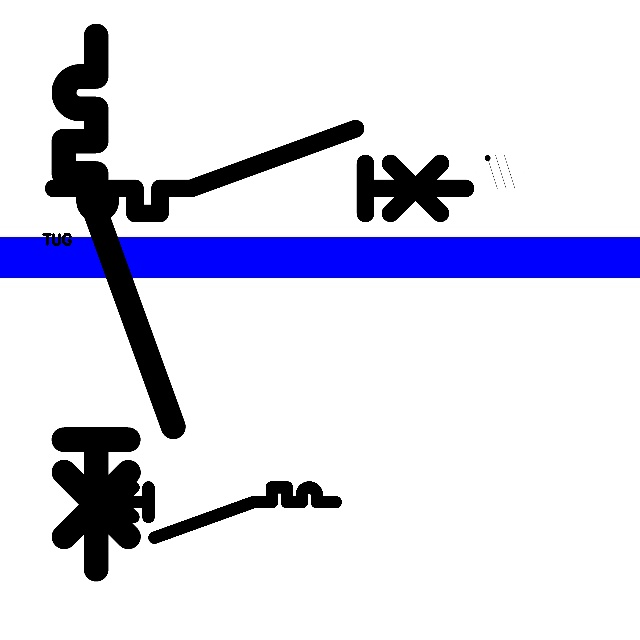interruptor_termomagnetico: (50, 22, 187, 582), (43, 118, 476, 224), (82, 481, 342, 544)
